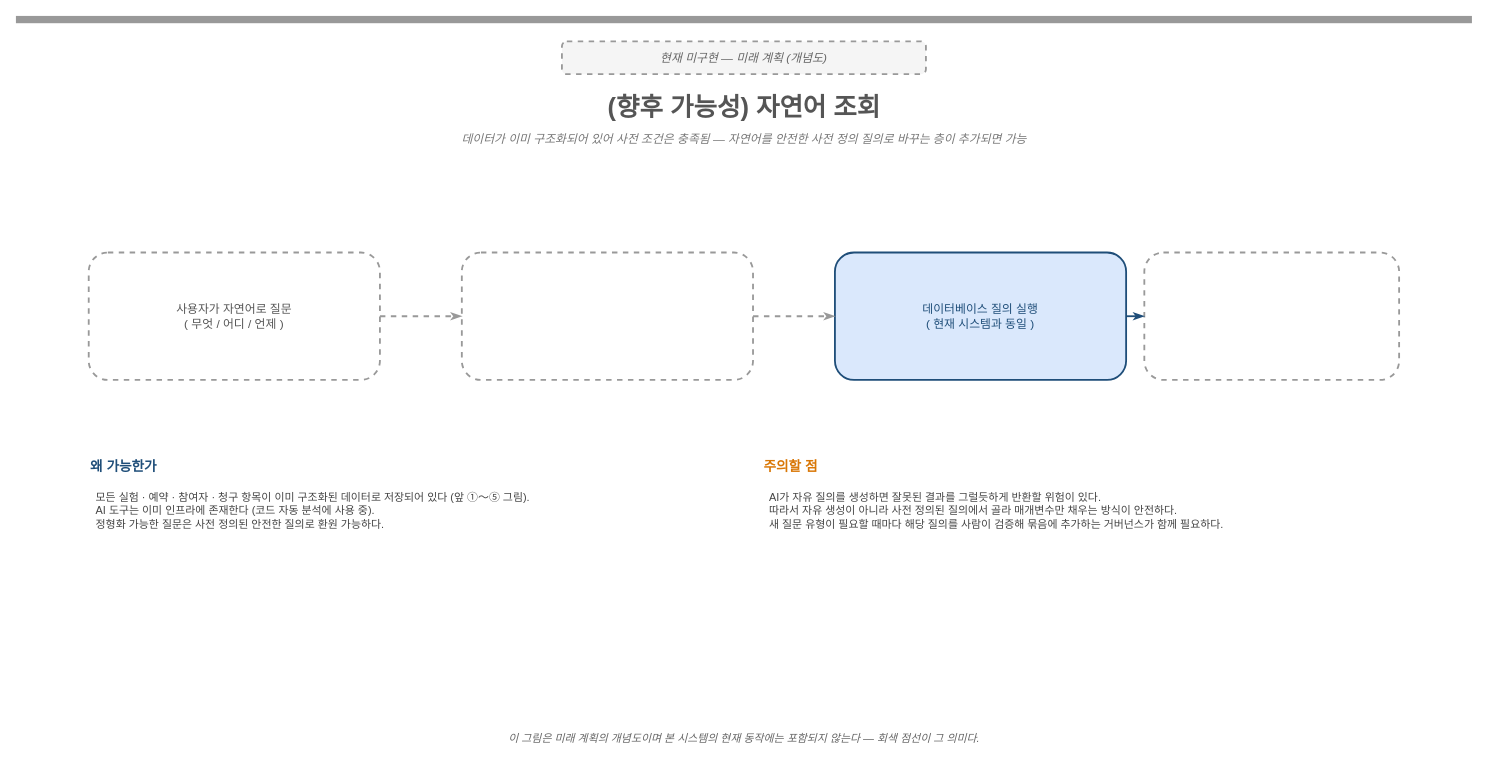
The diagram is 1487 pixels wide and 774 high, and some of its shapes have lost their labels. Here are the shapes that lost their labels. From the top down, the centre of each, then its label:
point (606, 315): AI 변환기 사전 정의된 안전한 질의 형식으로 매핑
point (1271, 315): 결과 반환 ( 필요시 자연어로 재포맷 )
